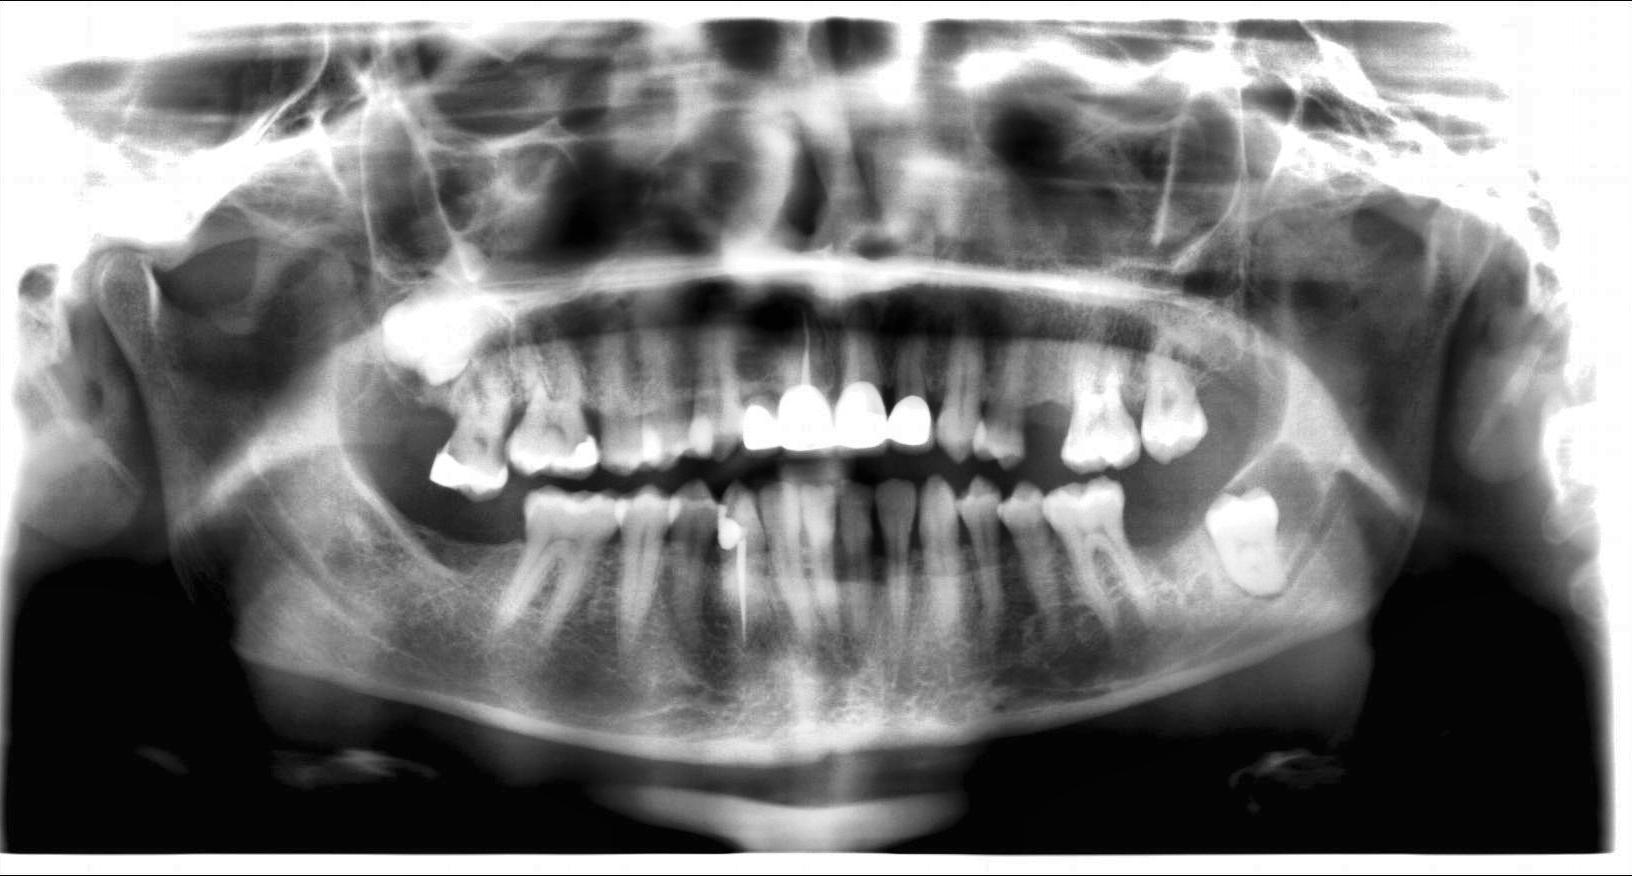keratokist: (1210, 434, 1320, 542)
